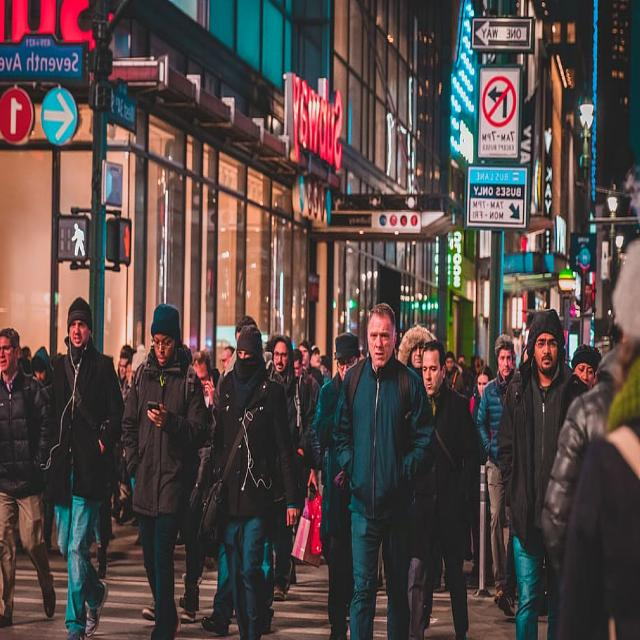adult: (120, 304, 210, 640), (349, 301, 436, 640), (501, 310, 587, 640), (209, 321, 297, 640), (43, 298, 120, 640), (408, 342, 470, 640), (0, 328, 57, 640), (315, 330, 361, 640), (475, 335, 517, 613), (270, 335, 310, 596), (408, 325, 434, 374), (471, 362, 490, 416)
